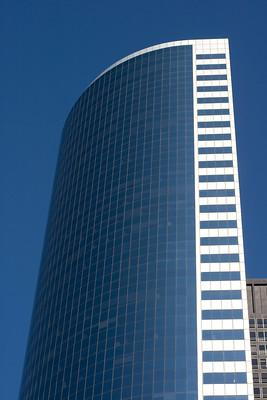building: (12, 34, 256, 400)
